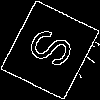S: (25, 25, 85, 76)
